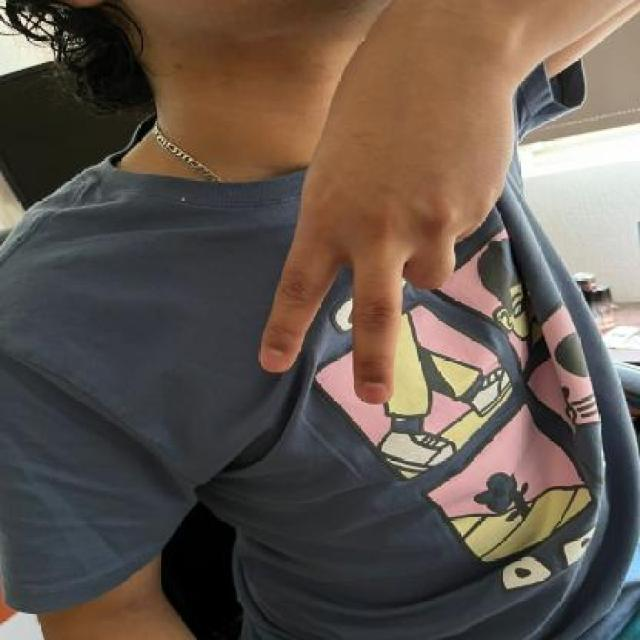N: (258, 60, 513, 406)
